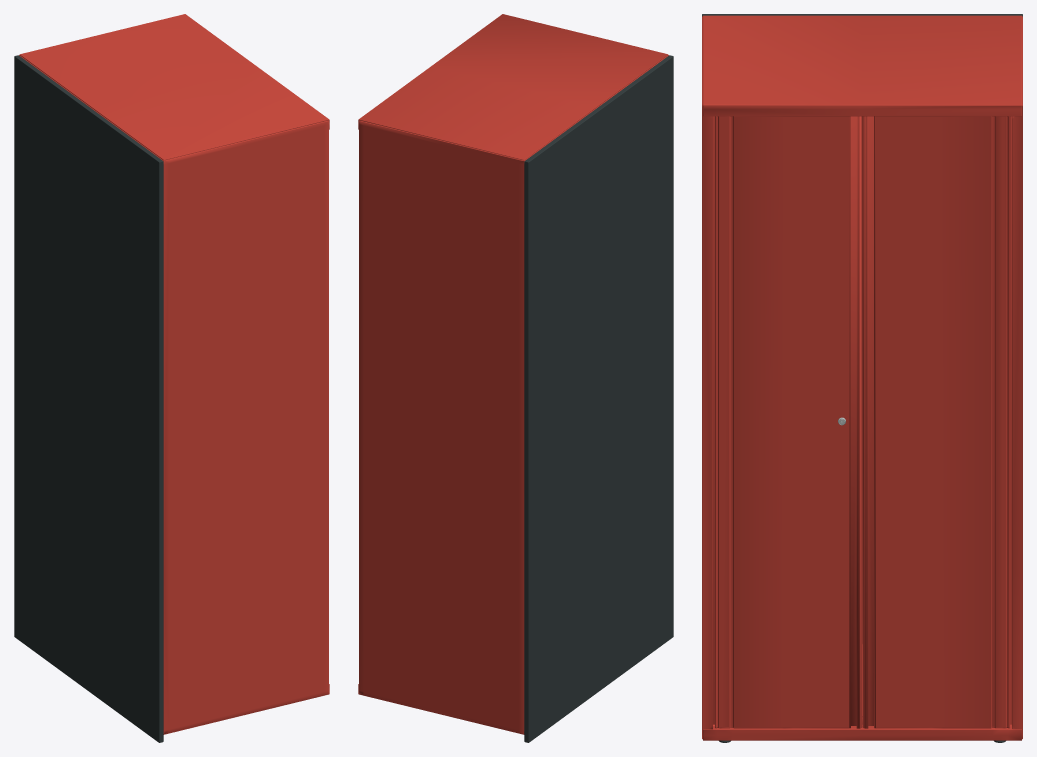
File: furniture_workbench_modular_b01.glb
3 renders of one model, left to right at view 1: azimuth 30°, elevation 25°; view 2: azimuth 150°, elevation 25°; view 3: azimuth 270°, elevation 25°, orthographic. The views are drawn at different scales.
Size of the model in its own units: 0.6222 by 2.02 by 0.9146.
